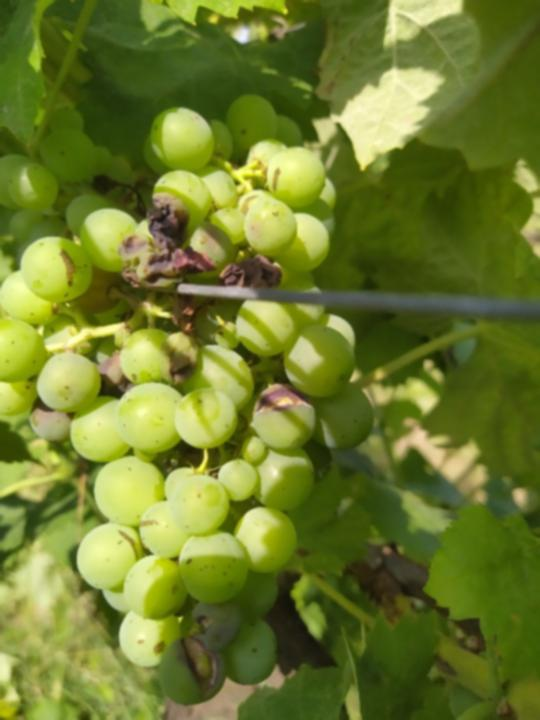grape: (7, 94, 378, 710)
